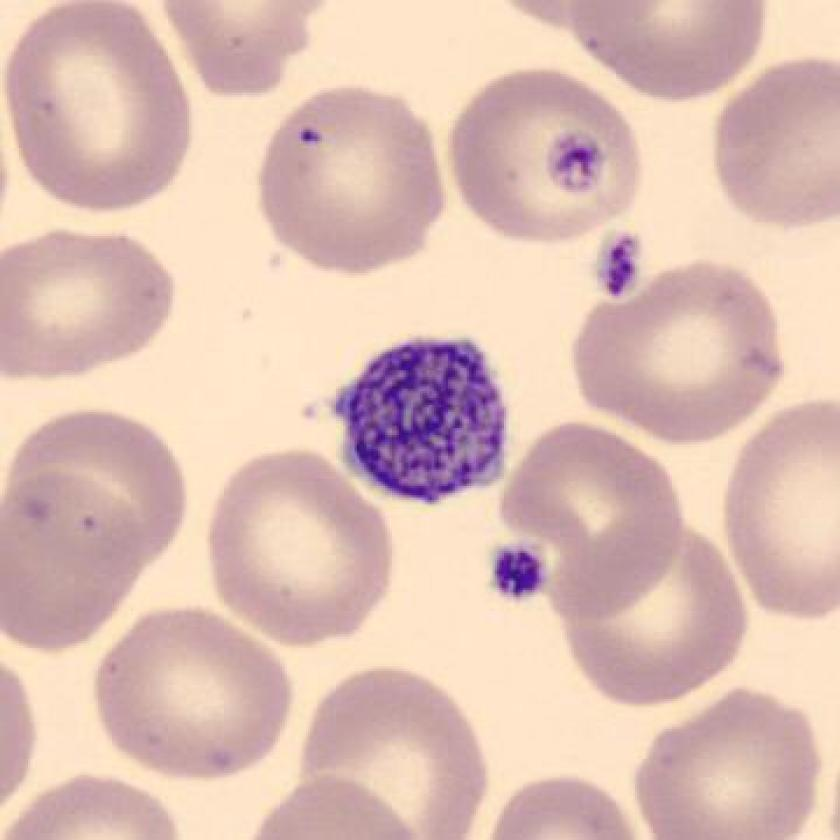platelets: (328, 323, 526, 524), (475, 524, 568, 617), (582, 217, 661, 314), (538, 121, 617, 214)
